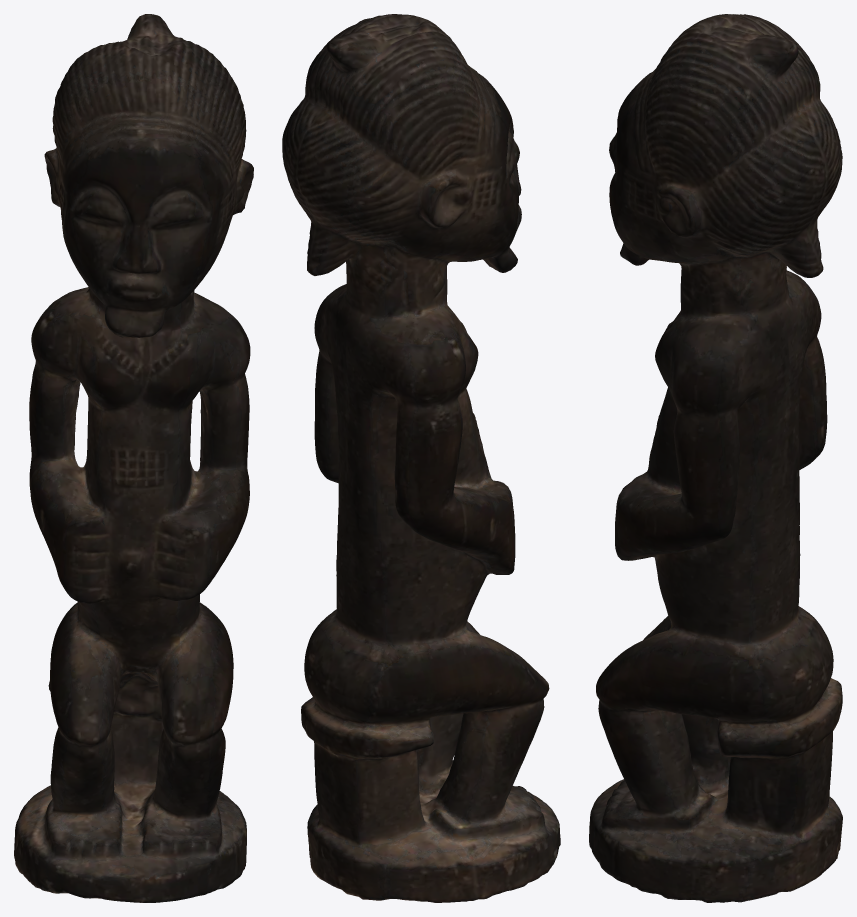
Rendered from preview.glb.
The picture shows the model from 3 angles, left to right: view 1: azimuth 30°, elevation 25°; view 2: azimuth 150°, elevation 25°; view 3: azimuth 270°, elevation 25°; orthographic projection. The views are drawn at different scales.
Parts seen in each view (by area): view 1: Object_2; view 2: Object_2; view 3: Object_2.
Boxes of the visible parts, box(x1,y1,x2,y2) form: Object_2: box(14, 14, 253, 902); Object_2: box(282, 14, 560, 902); Object_2: box(589, 14, 842, 902).
Size of the model in its own units: 147 by 513 by 141.
1 material, 1 textured.
